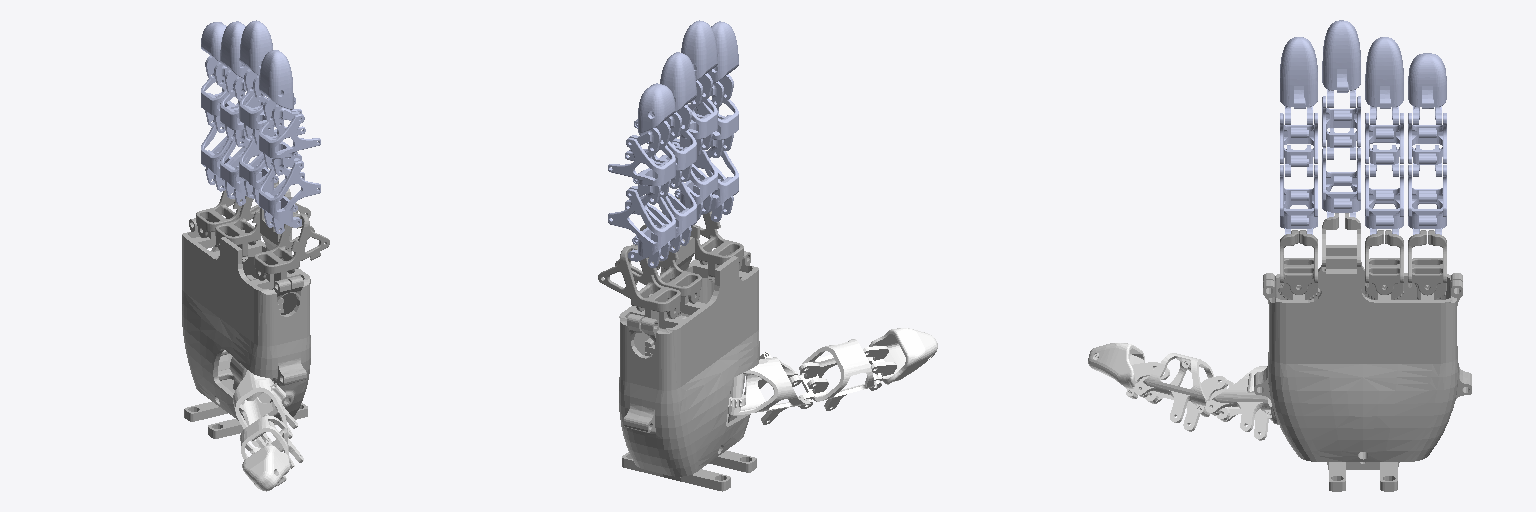
--- Render facts (derived) ---
Views: 3 orthographic renders of the robot side by side, from view 1: azimuth 30°, elevation 25°; view 2: azimuth 150°, elevation 25°; view 3: azimuth 270°, elevation 25°.
Robot: NEW_HAND_7_14 — 20 links, 19 joints (18 revolute, 1 fixed); root link world; default pose: all joints at 0.
Links seen in each view (by area): view 1: base_link, Index_Below_MCP, Index_MCP, Thumb_CMC, Index_DIP, Index_PIP, Middle_DIP, Thumb_IP, Ring_DIP, Thumb_MCP, Ring_Below_MCP, Middle_MCP (+7 smaller); view 2: base_link, Thumb_MCP, Thumb_CMC, Thumb_IP, Pinky_MCP, Pinky_Below_MCP, Pinky_PIP, Pinky_DIP, Ring_DIP, Middle_DIP, Index_DIP, Index_Below_MCP (+7 smaller); view 3: base_link, Thumb_MCP, Ring_DIP, Middle_DIP, Index_DIP, Thumb_IP, Thumb_CMC, Pinky_DIP, Ring_Below_MCP, Index_Below_MCP, Pinky_Below_MCP, Pinky_MCP (+7 smaller).
Link boxes in pixels (box(x1,y1,x2,y2)): base_link: box(182, 180, 310, 438); Index_Below_MCP: box(254, 210, 329, 288); Index_MCP: box(259, 161, 320, 233); Thumb_CMC: box(233, 370, 297, 447); Index_DIP: box(259, 50, 300, 128); Index_PIP: box(259, 114, 320, 175); Middle_DIP: box(239, 20, 272, 99); Thumb_IP: box(242, 442, 290, 491); Ring_DIP: box(220, 21, 250, 99); Thumb_MCP: box(240, 414, 303, 468); Ring_Below_MCP: box(215, 196, 260, 261); Middle_MCP: box(239, 133, 301, 204); base_link: box(619, 196, 759, 491); Thumb_MCP: box(789, 339, 881, 410); Thumb_CMC: box(728, 352, 812, 424); Thumb_IP: box(863, 328, 937, 384); Pinky_MCP: box(608, 189, 675, 267); Pinky_Below_MCP: box(598, 244, 680, 327); Pinky_PIP: box(608, 138, 675, 204); Pinky_DIP: box(629, 83, 675, 153); Ring_DIP: box(660, 52, 696, 137); Middle_DIP: box(681, 20, 717, 106); Index_DIP: box(705, 21, 738, 107); Index_Below_MCP: box(695, 211, 743, 282); base_link: box(1254, 213, 1471, 491); Thumb_MCP: box(1134, 353, 1233, 431); Ring_DIP: box(1365, 37, 1403, 124); Middle_DIP: box(1322, 20, 1360, 107); Index_DIP: box(1280, 37, 1317, 124); Thumb_IP: box(1088, 343, 1169, 402); Thumb_CMC: box(1205, 366, 1271, 440); Pinky_DIP: box(1408, 53, 1446, 124); Ring_Below_MCP: box(1365, 230, 1403, 299); Index_Below_MCP: box(1278, 230, 1319, 299); Pinky_Below_MCP: box(1408, 230, 1446, 299); Pinky_MCP: box(1408, 165, 1446, 234).
Size in the robot's own frame: 0.0981 by 0.1882 by 0.2405 metres.
19 mesh visuals loaded from 19 distinct referenced files (19 binary STL).

URDF robot description (NEW_HAND_7_14):
<?xml version="1.0" encoding="utf-8"?>
<!-- This URDF was automatically created by SolidWorks to URDF Exporter! Originally created by Stephen Brawner ([email redacted]) 
     Commit Version: 1.6.0-4-g7f85cfe  Build Version: 1.6.7995.38578
     For more information, please see http://wiki.ros.org/sw_urdf_exporter -->
<robot
  name="NEW_HAND_7_14">
  <link name="world"/>
  <link
    name="base_link">
    <inertial>
      <origin
        xyz="0.0229889992001183 -0.0589535736179466 0.0450931504750478"
        rpy="0 0 0" />
      <mass
        value="0.0923260250366311" />
      <inertia
        ixx="0.000157834671298758"
        ixy="1.67552394999982E-06"
        ixz="-2.03624787383225E-06"
        iyy="0.000112349532484309"
        iyz="3.30084225768307E-06"
        izz="7.7076995618803E-05" />
    </inertial>
    <visual>
      <origin
        xyz="0 0 0"
        rpy="0 0 0" />
      <geometry>
        <mesh
          filename="package://NEW_HAND_7_14/meshes/base_link.STL" />
      </geometry>
      <material
        name="">
        <color
          rgba="0.752941176470588 0.752941176470588 0.752941176470588 1" />
      </material>
    </visual>
    <collision>
      <origin
        xyz="0 0 0"
        rpy="0 0 0" />
      <geometry>
        <mesh
          filename="package://NEW_HAND_7_14/meshes/base_link.STL" />
      </geometry>
    </collision>
  </link>
  <joint
    name="world_link"
    type="fixed">
    <origin
      xyz="0 0 0"
      rpy="0 0 0" />
    <parent
      link="world" />
    <child
      link="base_link" />
  </joint>
  <link
    name="Thumb_CMC">
    <inertial>
      <origin
        xyz="-0.0235959691055167 0.0225251931415979 0.0175929138775454"
        rpy="0 0 0" />
      <mass
        value="0.00470513936643103" />
      <inertia
        ixx="1.11899230385288E-06"
        ixy="5.20820108682325E-08"
        ixz="-1.39209403588716E-07"
        iyy="1.11995200428266E-06"
        iyz="-4.46312838531224E-08"
        izz="5.93539621429687E-07" />
    </inertial>
    <visual>
      <origin
        xyz="0 0 0"
        rpy="0 0 0" />
      <geometry>
        <mesh
          filename="package://NEW_HAND_7_14/meshes/Thumb_CMC.STL" />
      </geometry>
      <material
        name="">
        <color
          rgba="1 1 1 1" />
      </material>
    </visual>
    <collision>
      <origin
        xyz="0 0 0"
        rpy="0 0 0" />
      <geometry>
        <mesh
          filename="package://NEW_HAND_7_14/meshes/Thumb_CMC.STL" />
      </geometry>
    </collision>
  </link>
  <joint
    name="Th_CMC"
    type="revolute">
    <origin
      xyz="0.0103949901972592 -0.0801396497736802 -0.00161898166752142"
      rpy="1.81199021468476 0.917419447170182 -0.192745517691689" />
    <parent
      link="base_link" />
    <child
      link="Thumb_CMC" />
    <axis
      xyz="0.766044443118979 -0.642787609686538 0" />
    <limit
      lower="0"
      upper="1.8545"
      effort="0"
      velocity="0" />
  </joint>
  <link
    name="Thumb_MCP">
    <inertial>
      <origin
        xyz="-0.00698509061159064 0.0220169747464121 0.0170595291177568"
        rpy="0 0 0" />
      <mass
        value="0.00335471840493084" />
      <inertia
        ixx="5.73393598668486E-07"
        ixy="5.55636825205899E-10"
        ixz="6.24004252624377E-08"
        iyy="6.36180797024836E-07"
        iyz="-1.06972865142351E-09"
        izz="4.35378331182914E-07" />
    </inertial>
    <visual>
      <origin
        xyz="0 0 0"
        rpy="0 0 0" />
      <geometry>
        <mesh
          filename="package://NEW_HAND_7_14/meshes/Thumb_MCP.STL" />
      </geometry>
      <material
        name="">
        <color
          rgba="1 1 1 1" />
      </material>
    </visual>
    <collision>
      <origin
        xyz="0 0 0"
        rpy="0 0 0" />
      <geometry>
        <mesh
          filename="package://NEW_HAND_7_14/meshes/Thumb_MCP.STL" />
      </geometry>
    </collision>
  </link>
  <joint
    name="Th_MCP"
    type="revolute">
    <origin
      xyz="-0.0152503592087255 0 0.0469999941010946"
      rpy="0 -0.201891001612509 0" />
    <parent
      link="Thumb_CMC" />
    <child
      link="Thumb_MCP" />
    <axis
      xyz="0 1 0" />
    <limit
      upper="0"
      lower="-0.9203"
      effort="0"
      velocity="0" />
  </joint>
  <link
    name="Thumb_IP">
    <inertial>
      <origin
        xyz="-0.00965035814633384 0.0382988195196307 0.0168001415764273"
        rpy="0 0 0" />
      <mass
        value="0.00427950781214506" />
      <inertia
        ixx="5.75540487558198E-07"
        ixy="-1.74308322559607E-10"
        ixz="1.10428094841803E-07"
        iyy="5.8363337114812E-07"
        iyz="-2.30105117719501E-10"
        izz="3.13187146818427E-07" />
    </inertial>
    <visual>
      <origin
        xyz="0 0 0"
        rpy="0 0 0" />
      <geometry>
        <mesh
          filename="package://NEW_HAND_7_14/meshes/Thumb_IP.STL" />
      </geometry>
      <material
        name="">
        <color
          rgba="1 1 1 1" />
      </material>
    </visual>
    <collision>
      <origin
        xyz="0 0 0"
        rpy="0 0 0" />
      <geometry>
        <mesh
          filename="package://NEW_HAND_7_14/meshes/Thumb_IP.STL" />
      </geometry>
    </collision>
  </link>
  <joint
    name="Th_IP"
    type="revolute">
    <origin
      xyz="0 -0.0162599854802385 0.04"
      rpy="0 0.0427040475838492 0" />
    <parent
      link="Thumb_MCP" />
    <child
      link="Thumb_IP" />
    <axis
      xyz="0 1 0" />
    <limit
      upper="0"
      lower="-0.7858"
      effort="0"
      velocity="0" />
  </joint>
  <link
    name="Index_Below_MCP">
    <inertial>
      <origin
        xyz="-0.000141739017525552 -0.007414281905249 -0.0158941275770474"
        rpy="0 0 0" />
      <mass
        value="0.00533430928122937" />
      <inertia
        ixx="1.03059750991721E-06"
        ixy="-2.85477156438942E-09"
        ixz="-5.92063718237686E-09"
        iyy="6.30910257692551E-07"
        iyz="-3.26746784074712E-07"
        izz="8.35250630015932E-07" />
    </inertial>
    <visual>
      <origin
        xyz="0 0 0"
        rpy="0 0 0" />
      <geometry>
        <mesh
          filename="package://NEW_HAND_7_14/meshes/Index_Below_MCP.STL" />
      </geometry>
      <material
        name="">
        <color
          rgba="0.698039215686274 0.698039215686274 0.698039215686274 1" />
      </material>
    </visual>
    <collision>
      <origin
        xyz="0 0 0"
        rpy="0 0 0" />
      <geometry>
        <mesh
          filename="package://NEW_HAND_7_14/meshes/Index_Below_MCP.STL" />
      </geometry>
    </collision>
  </link>
  <joint
    name="I_B_MCP"
    type="revolute">
    <origin
      xyz="0.0119549901972592 -0.0906341127127564 0.0986496364816261"
      rpy="-1.5707963267949 0 1.57079631189374" />
    <parent
      link="base_link" />
    <child
      link="Index_Below_MCP" />
    <axis
      xyz="0 0 1" />
    <limit
      upper="0"
      lower="-0.4666"
      effort="0"
      velocity="0" />
  </joint>
  <link
    name="Index_MCP">
    <inertial>
      <origin
        xyz="1.74845297286619E-05 0.012425082459662 -0.00584261155744065"
        rpy="0 0 0" />
      <mass
        value="0.002755942184203" />
      <inertia
        ixx="3.71398920418388E-07"
        ixy="4.40724760964533E-11"
        ixz="5.10520634417057E-11"
        iyy="2.52622034069184E-07"
        iyz="-4.71525953399512E-08"
        izz="3.66973305602768E-07" />
    </inertial>
    <visual>
      <origin
        xyz="0 0 0"
        rpy="0 0 0" />
      <geometry>
        <mesh
          filename="package://NEW_HAND_7_14/meshes/Index_MCP.STL" />
      </geometry>
      <material
        name="">
        <color
          rgba="0.796078431372549 0.823529411764706 0.937254901960784 1" />
      </material>
    </visual>
    <collision>
      <origin
        xyz="0 0 0"
        rpy="0 0 0" />
      <geometry>
        <mesh
          filename="package://NEW_HAND_7_14/meshes/Index_MCP.STL" />
      </geometry>
    </collision>
  </link>
  <joint
    name="I_MCP"
    type="revolute">
    <origin
      xyz="0 -0.028 -0.0205"
      rpy="-3.14159265358979 0 0" />
    <parent
      link="Index_Below_MCP" />
    <child
      link="Index_MCP" />
    <axis
      xyz="1 0 0" />
    <limit
      upper="0"
      lower="-1.8002"
      effort="0"
      velocity="0" />
  </joint>
  <link
    name="Index_PIP">
    <inertial>
      <origin
        xyz="1.91322862938131E-05 0.0102728432221988 -0.00621243408785694"
        rpy="0 0 0" />
      <mass
        value="0.00237210892394413" />
      <inertia
        ixx="2.39005004655757E-07"
        ixy="3.3700673346227E-11"
        ixz="3.67682453124388E-11"
        iyy="2.02579627119856E-07"
        iyz="-3.33240723310131E-09"
        izz="2.33279497210011E-07" />
    </inertial>
    <visual>
      <origin
        xyz="0 0 0"
        rpy="0 0 0" />
      <geometry>
        <mesh
          filename="package://NEW_HAND_7_14/meshes/Index_PIP.STL" />
      </geometry>
      <material
        name="">
        <color
          rgba="0.796078431372549 0.823529411764706 0.937254901960784 1" />
      </material>
    </visual>
    <collision>
      <origin
        xyz="0 0 0"
        rpy="0 0 0" />
      <geometry>
        <mesh
          filename="package://NEW_HAND_7_14/meshes/Index_PIP.STL" />
      </geometry>
    </collision>
  </link>
  <joint
    name="I_PIP"
    type="revolute">
    <origin
      xyz="0 0.0349845407392164 -4.41133227821466E-05"
      rpy="0 0 0" />
    <parent
      link="Index_MCP" />
    <child
      link="Index_PIP" />
    <axis
      xyz="1 0 0" />
    <limit
      upper="0"
      lower="-1.3104"
      effort="0"
      velocity="0" />
  </joint>
  <link
    name="Index_DIP">
    <inertial>
      <origin
        xyz="0.0088745383856826 0.0186542963001512 1.7951750147252E-05"
        rpy="0 0 0" />
      <mass
        value="0.00401062240803133" />
      <inertia
        ixx="5.63158708316372E-07"
        ixy="-6.20177100204777E-08"
        ixz="2.95041218083257E-11"
        iyy="2.03576127281701E-07"
        iyz="2.5595409783033E-10"
        izz="5.37383458551985E-07" />
    </inertial>
    <visual>
      <origin
        xyz="0 0 0"
        rpy="0 0 0" />
      <geometry>
        <mesh
          filename="package://NEW_HAND_7_14/meshes/Index_DIP.STL" />
      </geometry>
      <material
        name="">
        <color
          rgba="0.796078431372549 0.823529411764706 0.937254901960784 1" />
      </material>
    </visual>
    <collision>
      <origin
        xyz="0 0 0"
        rpy="0 0 0" />
      <geometry>
        <mesh
          filename="package://NEW_HAND_7_14/meshes/Index_DIP.STL" />
      </geometry>
    </collision>
  </link>
  <joint
    name="I_DIP"
    type="revolute">
    <origin
      xyz="0 0.028 0"
      rpy="0 1.5707963267949 0" />
    <parent
      link="Index_PIP" />
    <child
      link="Index_DIP" />
    <axis
      xyz="0 0 1" />
    <limit
      upper="0"
      lower="-1.1885"
      effort="0"
      velocity="0" />
  </joint>
  <link
    name="Middle_MCP">
    <inertial>
      <origin
        xyz="-0.0101136002172671 0.0123174814539491 -0.00573714110498205"
        rpy="0 0 0" />
      <mass
        value="0.00272571097624337" />
      <inertia
        ixx="3.60741433432062E-07"
        ixy="4.97055645069262E-11"
        ixz="5.82294784402578E-11"
        iyy="2.4908302309683E-07"
        iyz="-4.6314073428808E-08"
        izz="3.60046241463054E-07" />
    </inertial>
    <visual>
      <origin
        xyz="0 0 0"
        rpy="0 0 0" />
      <geometry>
        <mesh
          filename="package://NEW_HAND_7_14/meshes/Middle_MCP.STL" />
      </geometry>
      <material
        name="">
        <color
          rgba="0.796078431372549 0.823529411764706 0.937254901960784 1" />
      </material>
    </visual>
    <collision>
      <origin
        xyz="0 0 0"
        rpy="0 0 0" />
      <geometry>
        <mesh
          filename="package://NEW_HAND_7_14/meshes/Middle_MCP.STL" />
      </geometry>
    </collision>
  </link>
  <joint
    name="M_MCP"
    type="revolute">
    <origin
      xyz="0.0324520124765686 -0.0595027978004319 0.135649636481626"
      rpy="1.5707963267949 0 1.5707963267949" />
    <parent
      link="base_link" />
    <child
      link="Middle_MCP" />
    <axis
      xyz="1 0 0" />
    <limit
      upper="0"
      lower="-1.7791"
      effort="0"
      velocity="0" />
  </joint>
  <link
    name="Middle_PIP">
    <inertial>
      <origin
        xyz="-0.0101116960869287 0.0102838776437251 -0.00629709978947194"
        rpy="0 0 0" />
      <mass
        value="0.00233862396902497" />
      <inertia
        ixx="2.35929304829107E-07"
        ixy="-3.69258097109355E-13"
        ixz="3.72251798588378E-11"
        iyy="2.00832171761458E-07"
        iyz="-3.66561096906324E-09"
        izz="2.27073981414219E-07" />
    </inertial>
    <visual>
      <origin
        xyz="0 0 0"
        rpy="0 0 0" />
      <geometry>
        <mesh
          filename="package://NEW_HAND_7_14/meshes/Middle_PIP.STL" />
      </geometry>
      <material
        name="">
        <color
          rgba="0.792156862745098 0.819607843137255 0.933333333333333 1" />
      </material>
    </visual>
    <collision>
      <origin
        xyz="0 0 0"
        rpy="0 0 0" />
      <geometry>
        <mesh
          filename="package://NEW_HAND_7_14/meshes/Middle_PIP.STL" />
      </geometry>
    </collision>
  </link>
  <joint
    name="M_PIP"
    type="revolute">
    <origin
      xyz="0 0.0349845407392164 -4.41133227821119E-05"
      rpy="0 0 0" />
    <parent
      link="Middle_MCP" />
    <child
      link="Middle_PIP" />
    <axis
      xyz="1 0 0" />
    <limit
      upper="0"
      lower="-1.2823"
      effort="0"
      velocity="0" />
  </joint>
  <link
    name="Middle_DIP">
    <inertial>
      <origin
        xyz="0.00882563898963759 0.0186497272717144 -0.00951756398313746"
        rpy="0 0 0" />
      <mass
        value="0.00393985996098775" />
      <inertia
        ixx="5.59716352696436E-07"
        ixy="-6.16509165164444E-08"
        ixz="2.39131903634239E-11"
        iyy="2.02161679784652E-07"
        iyz="2.542013817785E-10"
        izz="5.33501808261228E-07" />
    </inertial>
    <visual>
      <origin
        xyz="0 0 0"
        rpy="0 0 0" />
      <geometry>
        <mesh
          filename="package://NEW_HAND_7_14/meshes/Middle_DIP.STL" />
      </geometry>
      <material
        name="">
        <color
          rgba="0.796078431372549 0.823529411764706 0.937254901960784 1" />
      </material>
    </visual>
    <collision>
      <origin
        xyz="0 0 0"
        rpy="0 0 0" />
      <geometry>
        <mesh
          filename="package://NEW_HAND_7_14/meshes/Middle_DIP.STL" />
      </geometry>
    </collision>
  </link>
  <joint
    name="M_DIP"
    type="revolute">
    <origin
      xyz="-0.000595463753748519 0.028 0"
      rpy="0 1.5707963267949 0" />
    <parent
      link="Middle_PIP" />
    <child
      link="Middle_DIP" />
    <axis
      xyz="0 0 1" />
    <limit
      upper="0"
      lower="-1.275"
      effort="0"
      velocity="0" />
  </joint>
  <link
    name="Ring_Below_MCP">
    <inertial>
      <origin
        xyz="0.000141400134023868 0.0074857139011992 -0.0159144514378361"
        rpy="0 0 0" />
      <mass
        value="0.00533806254719222" />
      <inertia
        ixx="1.03534831690712E-06"
        ixy="-2.71243441971051E-09"
        ixz="5.52800832529695E-09"
        iyy="6.29683236282431E-07"
        iyz="3.2850594945562E-07"
        izz="8.398894362912E-07" />
    </inertial>
    <visual>
      <origin
        xyz="0 0 0"
        rpy="0 0 0" />
      <geometry>
        <mesh
          filename="package://NEW_HAND_7_14/meshes/Ring_Below_MCP.STL" />
      </geometry>
      <material
        name="">
        <color
          rgba="0.698039215686274 0.698039215686274 0.698039215686274 1" />
      </material>
    </visual>
    <collision>
      <origin
        xyz="0 0 0"
        rpy="0 0 0" />
      <geometry>
        <mesh
          filename="package://NEW_HAND_7_14/meshes/Ring_Below_MCP.STL" />
      </geometry>
    </collision>
  </link>
  <joint
    name="R_B_MCP"
    type="revolute">
    <origin
      xyz="0.0119549901972592 -0.0486341127127564 0.0986496364816261"
      rpy="1.5707963267949 0 -1.5707963267949" />
    <parent
      link="base_link" />
    <child
      link="Ring_Below_MCP" />
    <axis
      xyz="0 0 1" />
    <limit
      lower="0"
      upper="0.4666"
      effort="0"
      velocity="0" />
  </joint>
  <link
    name="Ring_MCP">
    <inertial>
      <origin
        xyz="1.81948245160032E-05 0.0123593854737641 -0.00587052665391902"
        rpy="0 0 0" />
      <mass
        value="0.00276772493959526" />
      <inertia
        ixx="3.62934432060181E-07"
        ixy="2.59006347729571E-11"
        ixz="4.352494536437E-11"
        iyy="2.51941262923257E-07"
        iyz="-4.48505833302919E-08"
        izz="3.63179228405758E-07" />
    </inertial>
    <visual>
      <origin
        xyz="0 0 0"
        rpy="0 0 0" />
      <geometry>
        <mesh
          filename="package://NEW_HAND_7_14/meshes/Ring_MCP.STL" />
      </geometry>
      <material
        name="">
        <color
          rgba="0.796078431372549 0.823529411764706 0.937254901960784 1" />
      </material>
    </visual>
    <collision>
      <origin
        xyz="0 0 0"
        rpy="0 0 0" />
      <geometry>
        <mesh
          filename="package://NEW_HAND_7_14/meshes/Ring_MCP.STL" />
      </geometry>
    </collision>
  </link>
  <joint
    name="R_MCP"
    type="revolute">
    <origin
      xyz="0 0.028 -0.0205"
      rpy="3.14159265358979 0 3.14159263869106" />
    <parent
      link="Ring_Below_MCP" />
    <child
      link="Ring_MCP" />
    <axis
      xyz="1 0 0" />
    <limit
      upper="0"
      lower="-1.7553"
      effort="0"
      velocity="0" />
  </joint>
  <link
    name="Ring_PIP">
    <inertial>
      <origin
        xyz="1.82711535060415E-05 0.0103252304355742 -0.00628747443583751"
        rpy="0 0 0" />
      <mass
        value="0.00234637206717093" />
      <inertia
        ixx="2.36074471265175E-07"
        ixy="7.75187690709087E-12"
        ixz="1.58152430137294E-11"
        iyy="2.01399401299851E-07"
        iyz="-3.30872238950354E-09"
        izz="2.28648255064159E-07" />
    </inertial>
    <visual>
      <origin
        xyz="0 0 0"
        rpy="0 0 0" />
      <geometry>
        <mesh
          filename="package://NEW_HAND_7_14/meshes/Ring_PIP.STL" />
      </geometry>
      <material
        name="">
        <color
          rgba="0.796078431372549 0.823529411764706 0.937254901960784 1" />
      </material>
    </visual>
    <collision>
      <origin
        xyz="0 0 0"
        rpy="0 0 0" />
      <geometry>
        <mesh
          filename="package://NEW_HAND_7_14/meshes/Ring_PIP.STL" />
      </geometry>
    </collision>
  </link>
  <joint
    name="R_PIP"
    type="revolute">
    <origin
      xyz="0 0.0349845407392165 -4.41133227821258E-05"
      rpy="0 0 0" />
    <parent
      link="Ring_MCP" />
    <child
      link="Ring_PIP" />
    <axis
      xyz="1 0 0" />
    <limit
      upper="0"
      lower="-1.273"
      effort="0"
      velocity="0" />
  </joint>
  <link
    name="Ring_DIP">
    <inertial>
      <origin
        xyz="0.00880902065251336 0.0186629590447163 1.83065773381175E-05"
        rpy="0 0 0" />
      <mass
        value="0.00392874646199753" />
      <inertia
        ixx="5.59544946557029E-07"
        ixy="-6.18614604312533E-08"
        ixz="2.4163672660381E-11"
        iyy="2.0175897550917E-07"
        iyz="2.55747471336562E-10"
        izz="5.33045911374577E-07" />
    </inertial>
    <visual>
      <origin
        xyz="0 0 0"
        rpy="0 0 0" />
      <geometry>
        <mesh
          filename="package://NEW_HAND_7_14/meshes/Ring_DIP.STL" />
      </geometry>
      <material
        name="">
        <color
          rgba="0.796078431372549 0.823529411764706 0.937254901960784 1" />
      </material>
    </visual>
    <collision>
      <origin
        xyz="0 0 0"
        rpy="0 0 0" />
      <geometry>
        <mesh
          filename="package://NEW_HAND_7_14/meshes/Ring_DIP.STL" />
      </geometry>
    </collision>
  </link>
  <joint
    name="R_DIP"
    type="revolute">
    <origin
      xyz="0 0.028 0"
      rpy="0 1.5707963267949 0" />
    <parent
      link="Ring_PIP" />
    <child
      link="Ring_DIP" />
    <axis
      xyz="0 0 1" />
    <limit
      upper="0"
      lower="-1.2842"
      effort="0"
      velocity="0" />
  </joint>
  <link
    name="Pinky_Below_MCP">
    <inertial>
      <origin
        xyz="-0.00016822714488484 -0.00805589921565376 0.0162001246092224"
        rpy="0 0 0" />
      <mass
        value="0.00512816464476324" />
      <inertia
        ixx="9.99698557391452E-07"
        ixy="2.18278350034049E-08"
        ixz="-1.56085769430749E-08"
        iyy="6.10313689694142E-07"
        iyz="3.14479368818669E-07"
        izz="7.98354678968584E-07" />
    </inertial>
    <visual>
      <origin
        xyz="0 0 0"
        rpy="0 0 0" />
      <geometry>
        <mesh
          filename="package://NEW_HAND_7_14/meshes/Pinky_Below_MCP.STL" />
      </geometry>
      <material
        name="">
        <color
          rgba="0.698039215686274 0.698039215686274 0.698039215686274 1" />
      </material>
    </visual>
    <collision>
      <origin
        xyz="0 0 0"
        rpy="0 0 0" />
      <geometry>
        <mesh
          filename="package://NEW_HAND_7_14/meshes/Pinky_Below_MCP.STL" />
      </geometry>
    </collision>
  </link>
  <joint
    name="P_B_MCP"
    type="revolute">
    <origin
      xyz="0.011955 -0.027634 0.09865"
      rpy="-1.5708 0 -1.5708" />
    <parent
      link="base_link" />
    <child
      link="Pinky_Below_MCP" />
    <axis
      xyz="0 0 1" />
    <limit
      upper="0"
      lower="-0.6872"
      effort="0"
      velocity="0" />
  </joint>
  <link
    name="Pinky_MCP">
    <inertial>
      <origin
        xyz="1.75554955959903E-05 0.0123862857722914 -0.00586906537761597"
        rpy="0 0 0" />
      <mass
        value="0.00275274576508523" />
      <inertia
        ixx="3.66135316485618E-07"
        ixy="5.2281213787533E-11"
        ixz="5.20268126521755E-11"
        iyy="2.51983299258902E-07"
        iyz="-4.56232322526544E-08"
        izz="3.63835747168652E-07" />
    </inertial>
    <visual>
      <origin
        xyz="0 0 0"
        rpy="0 0 0" />
      <geometry>
        <mesh
          filename="package://NEW_HAND_7_14/meshes/Pinky_MCP.STL" />
      </geometry>
      <material
        name="">
        <color
          rgba="0.796078431372549 0.823529411764706 0.937254901960784 1" />
      </material>
    </visual>
    <collision>
      <origin
        xyz="0 0 0"
        rpy="0 0 0" />
      <geometry>
        <mesh
          filename="package://NEW_HAND_7_14/meshes/Pinky_MCP.STL" />
      </geometry>
    </collision>
  </link>
  <joint
    name="P_MCP"
    type="revolute">
    <origin
      xyz="0 -0.028 0.0205"
      rpy="0 0 3.1416" />
    <parent
      link="Pinky_Below_MCP" />
    <child
      link="Pinky_MCP" />
    <axis
      xyz="1 0 0" />
    <limit
      upper="0"
      lower="-1.7269"
      effort="0"
      velocity="0" />
  </joint>
  <link
    name="Pinky_PIP">
    <inertial>
      <origin
        xyz="1.74613939590007E-05 0.0103551539568034 -0.00633662510888196"
        rpy="0 0 0" />
      <mass
        value="0.00234098594407861" />
      <inertia
        ixx="2.3604645358024E-07"
        ixy="-1.81481552856187E-11"
        ixz="6.6232059087801E-11"
        iyy="2.01338905933099E-07"
        iyz="-3.58240052840539E-09"
        izz="2.29068935661681E-07" />
    </inertial>
    <visual>
      <origin
        xyz="0 0 0"
        rpy="0 0 0" />
      <geometry>
        <mesh
          filename="package://NEW_HAND_7_14/meshes/Pinky_PIP.STL" />
      </geometry>
      <material
        name="">
        <color
          rgba="0.796078431372549 0.823529411764706 0.937254901960784 1" />
      </material>
    </visual>
    <collision>
      <origin
        xyz="0 0 0"
        rpy="0 0 0" />
      <geometry>
        <mesh
          filename="package://NEW_HAND_7_14/meshes/Pinky_PIP.STL" />
      </geometry>
    </collision>
  </link>
  <joint
    name="P_PIP"
    type="revolute">
    <origin
      xyz="0 0.034985 -4.4113E-05"
      rpy="0 0 0" />
    <parent
      link="Pinky_MCP" />
    <child
      link="Pinky_PIP" />
    <axis
      xyz="1 0 0" />
    <limit
      upper="0"
      lower="-1.2573"
      effort="0"
      velocity="0" />
  </joint>
  <link
    name="Pinky_DIP">
    <inertial>
      <origin
        xyz="0.00857258027621421 0.0152163338013744 2.31261014923163E-05"
        rpy="0 0 0" />
      <mass
        value="0.00310861620743108" />
      <inertia
        ixx="3.21155921167126E-07"
        ixy="-4.50241167853334E-08"
        ixz="7.08897970179819E-12"
        iyy="1.56377785853672E-07"
        iyz="7.86152162223636E-12"
        izz="3.02201519980175E-07" />
    </inertial>
    <visual>
      <origin
        xyz="0 0 0"
        rpy="0 0 0" />
      <geometry>
        <mesh
          filename="package://NEW_HAND_7_14/meshes/Pinky_DIP.STL" />
      </geometry>
      <material
        name="">
        <color
          rgba="0.796078431372549 0.823529411764706 0.937254901960784 1" />
      </material>
    </visual>
    <collision>
      <origin
        xyz="0 0 0"
        rpy="0 0 0" />
      <geometry>
        <mesh
          filename="package://NEW_HAND_7_14/meshes/Pinky_DIP.STL" />
      </geometry>
    </collision>
  </link>
  <joint
    name="P_DIP"
    type="revolute">
    <origin
      xyz="0 0.028 0"
      rpy="0 1.5708 0" />
    <parent
      link="Pinky_PIP" />
    <child
      link="Pinky_DIP" />
    <axis
      xyz="0 0 1" />
    <limit
      upper="0"
      lower="-1.2577"
      effort="0"
      velocity="0" />
  </joint>
</robot>
